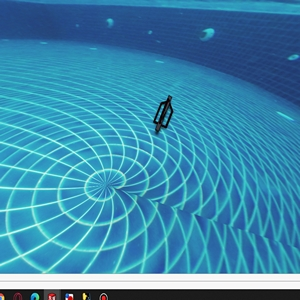submarine: (151, 91, 173, 129), (154, 100, 181, 124)
